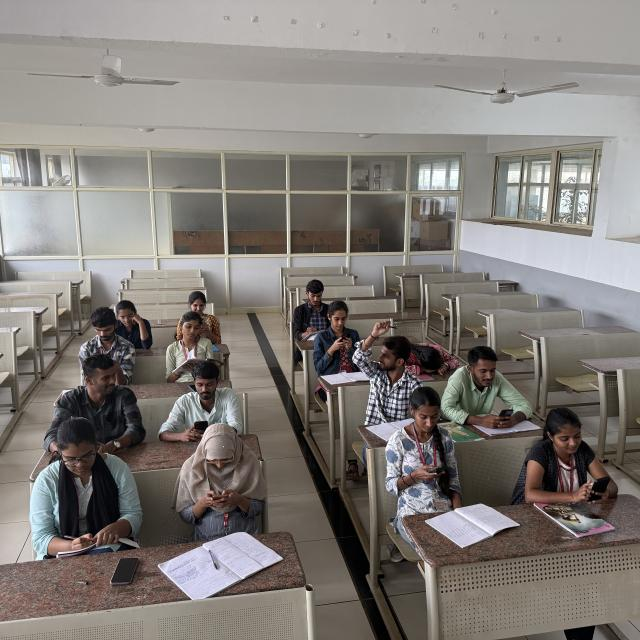Hand Rising: (354, 313, 414, 418)
Reading: (160, 316, 230, 374)
Sleeping: (406, 326, 462, 376)
Using Phone: (527, 408, 623, 504), (171, 433, 270, 520), (151, 364, 264, 435), (396, 387, 472, 487), (449, 343, 532, 424), (64, 306, 134, 382), (321, 301, 360, 365), (174, 290, 222, 330)
Writing: (18, 423, 149, 555), (283, 279, 332, 343)
